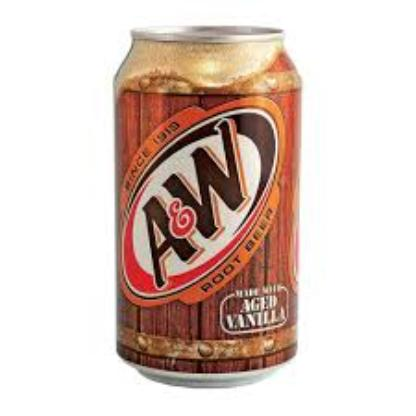Can: (113, 26, 301, 377)
